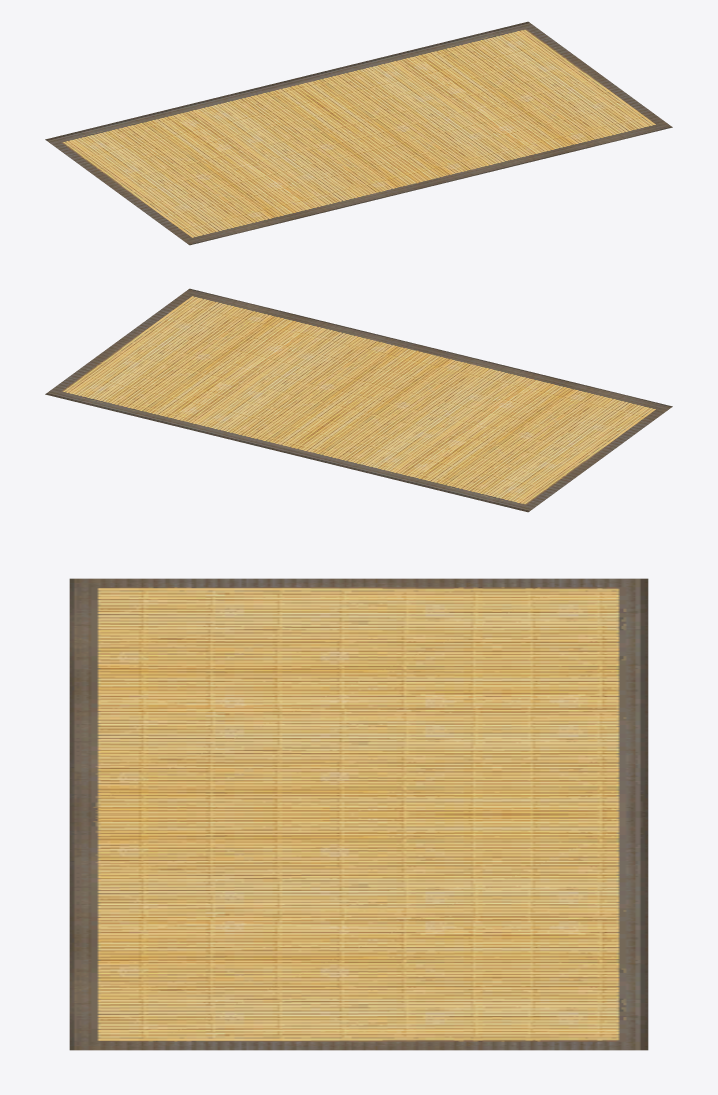
Rendered from Tatami1.b.fbx.
The picture shows the model from 3 angles, top to bottom: view 1: azimuth 30°, elevation 25°; view 2: azimuth 150°, elevation 25°; view 3: azimuth 270°, elevation 25°; orthographic projection. The views are drawn at different scales.
Parts seen in each view (by area): view 1: Group 0; view 2: Group 0; view 3: Group 0.
Boxes of the visible parts, x1,y1,x2,y2 form: Group 0: [45, 21, 672, 245]; Group 0: [45, 288, 672, 512]; Group 0: [69, 578, 648, 1050].
Bounding box in the file's own units: 185 × 1.01e-05 × 85.
1 material, 1 textured.
